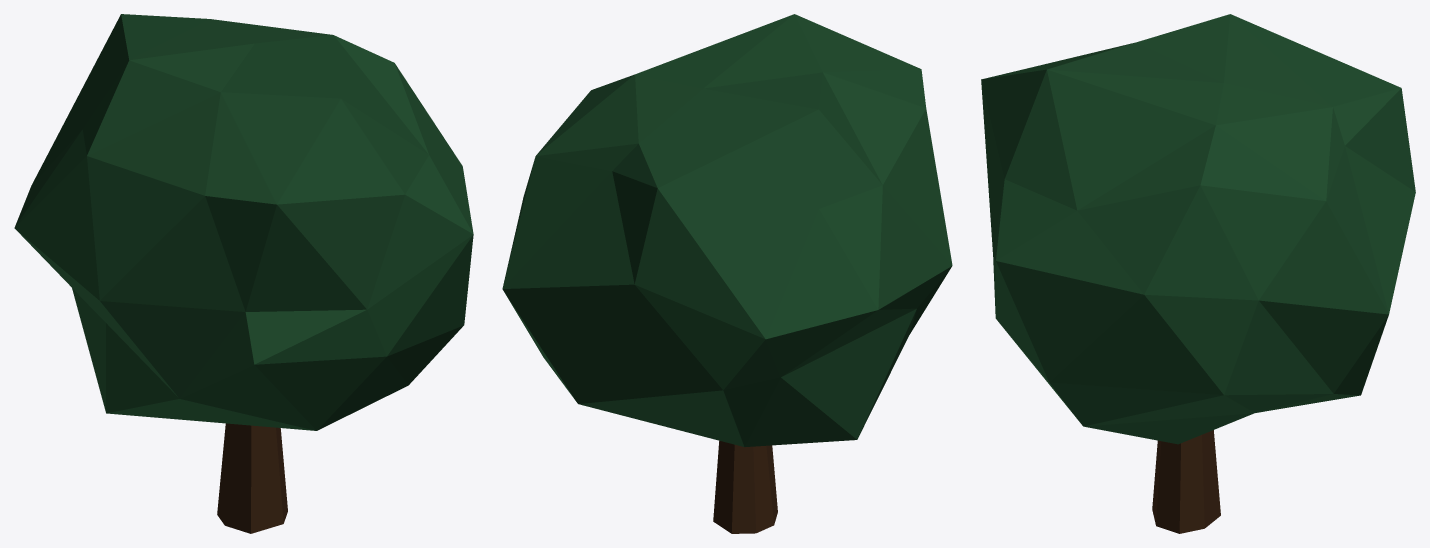
The model's file is PineTree.glb.
3 renders of one model, left to right at view 1: azimuth 30°, elevation 25°; view 2: azimuth 150°, elevation 25°; view 3: azimuth 270°, elevation 25°, orthographic. The views are drawn at different scales.
Parts seen in each view (by area): view 1: PineTree; view 2: PineTree; view 3: PineTree.
Part boxes in pixels (<box>): PineTree: <box>14,14,473,533</box>; PineTree: <box>502,14,952,533</box>; PineTree: <box>981,14,1415,533</box>.
Bounding box in the file's own units: 3.88 × 4.41 × 3.8.
